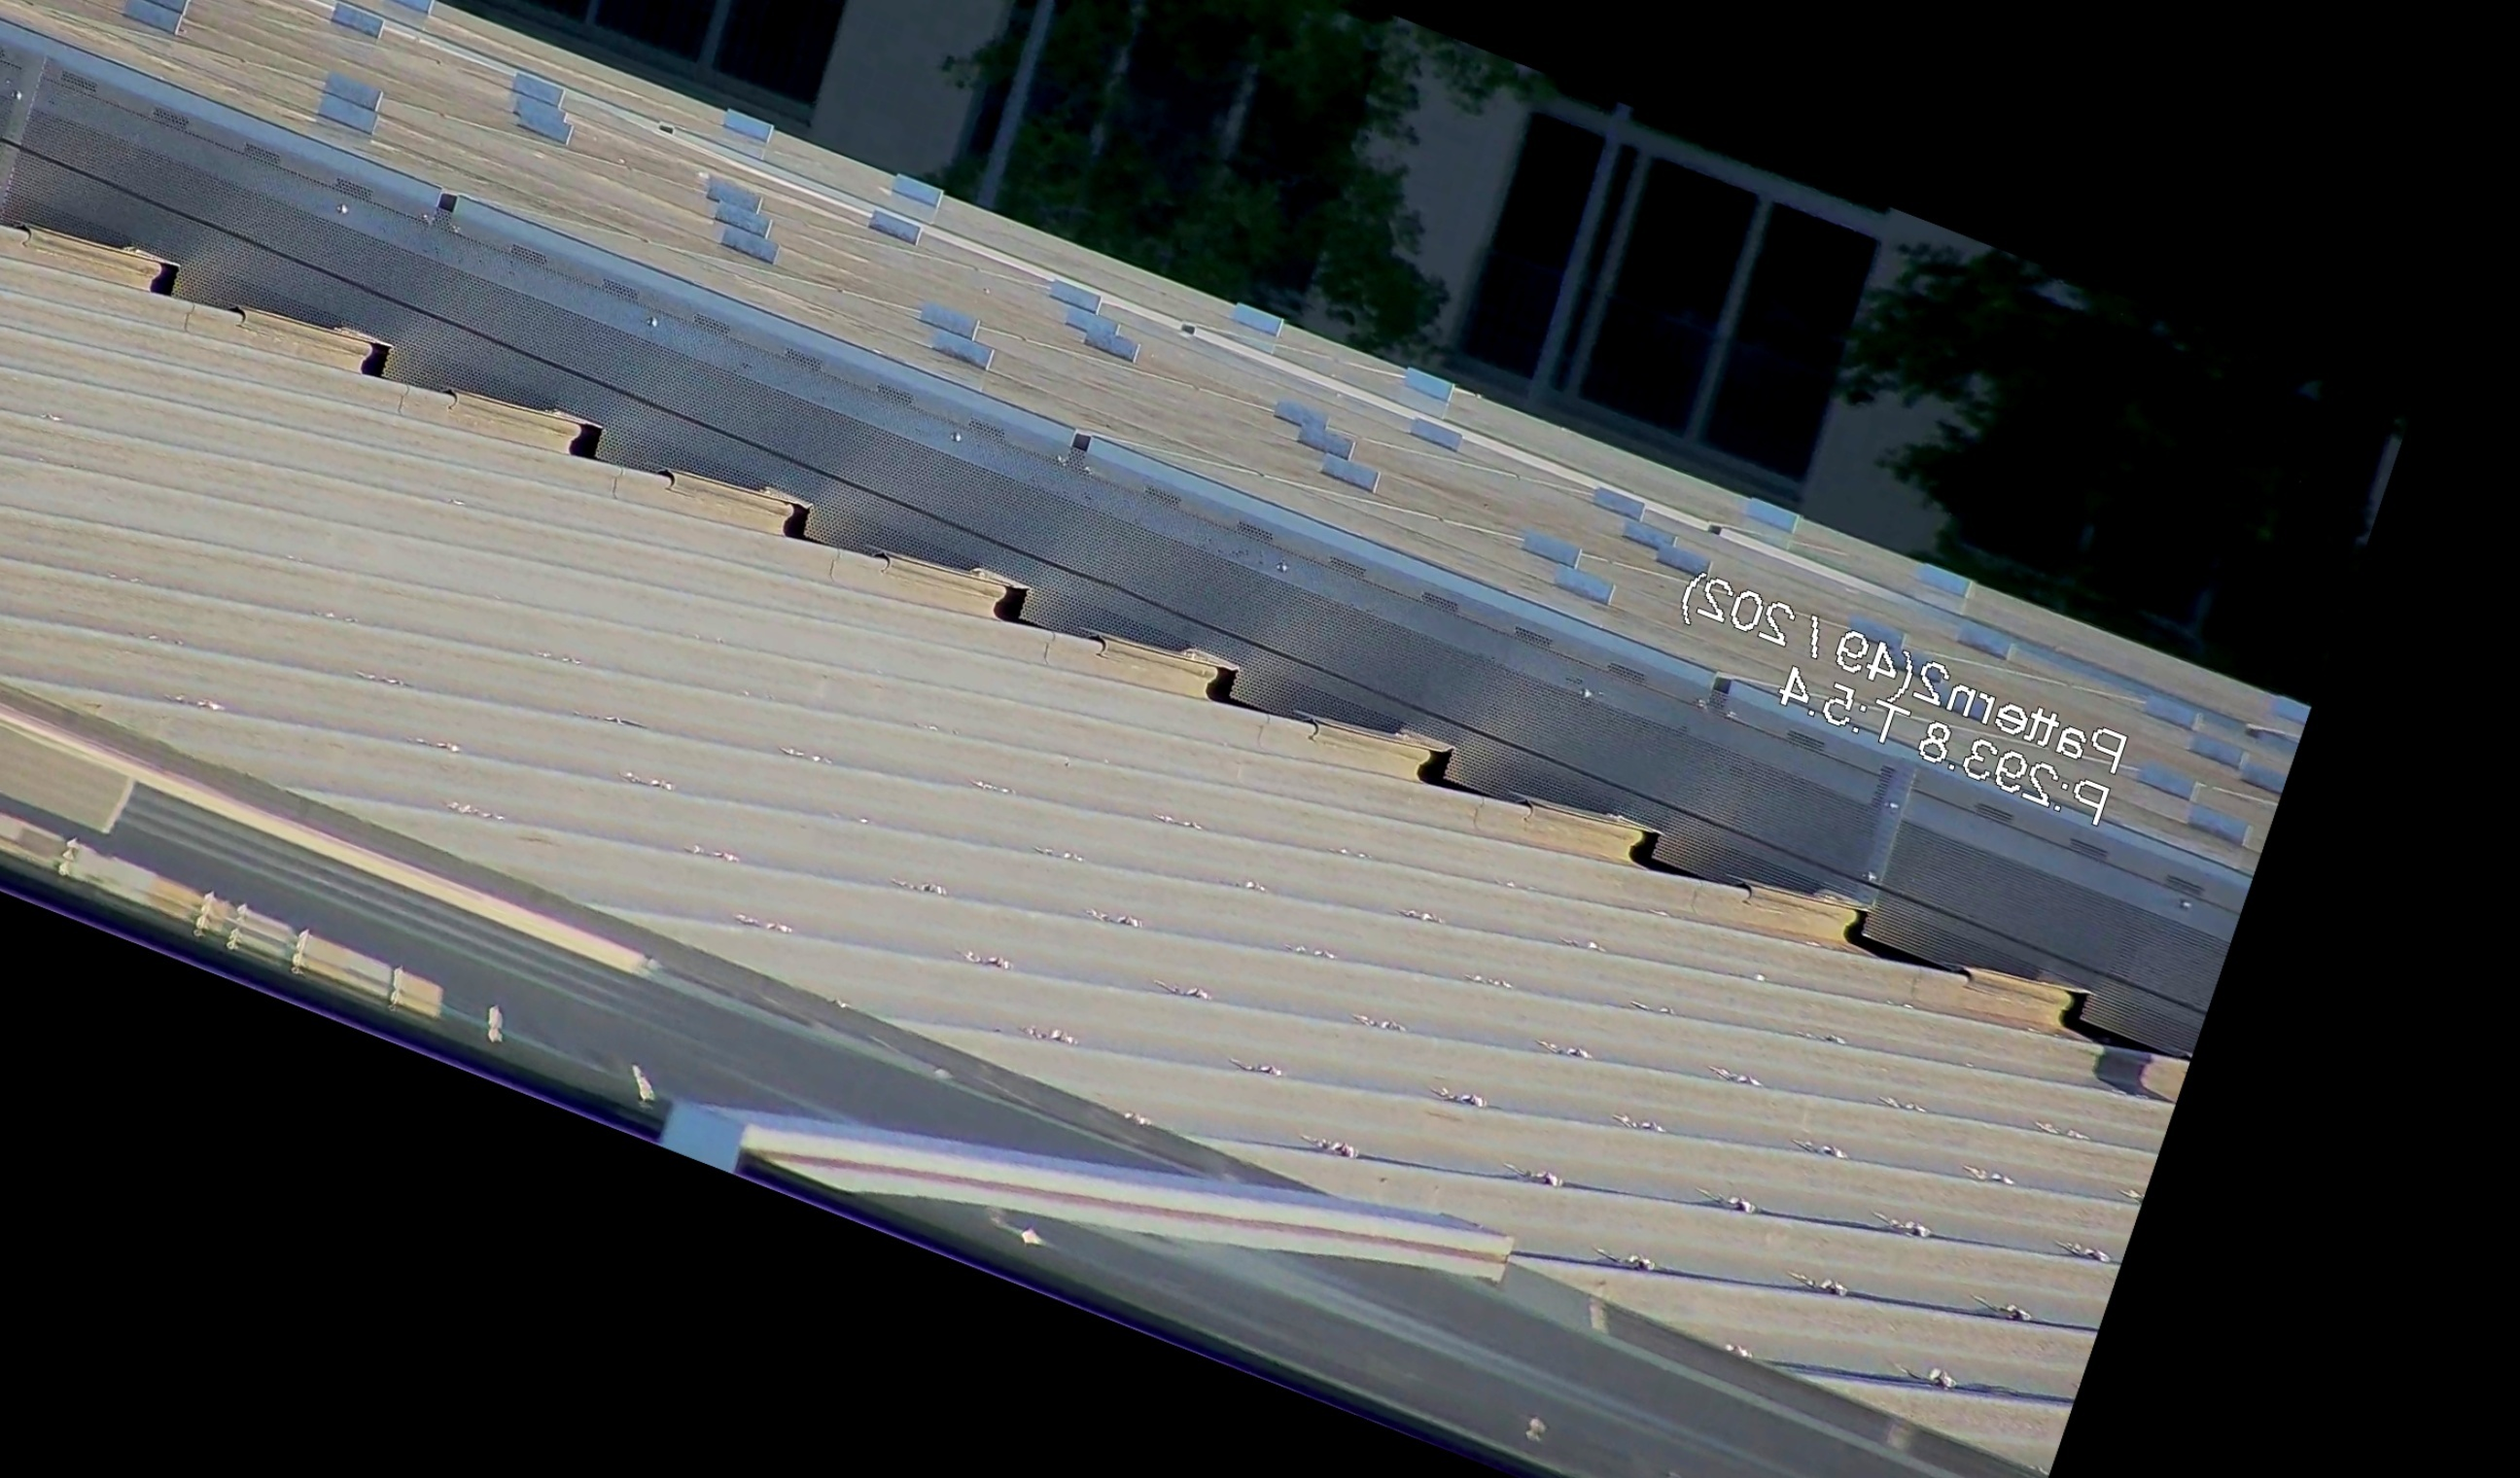Other: (1421, 734, 1479, 797)
